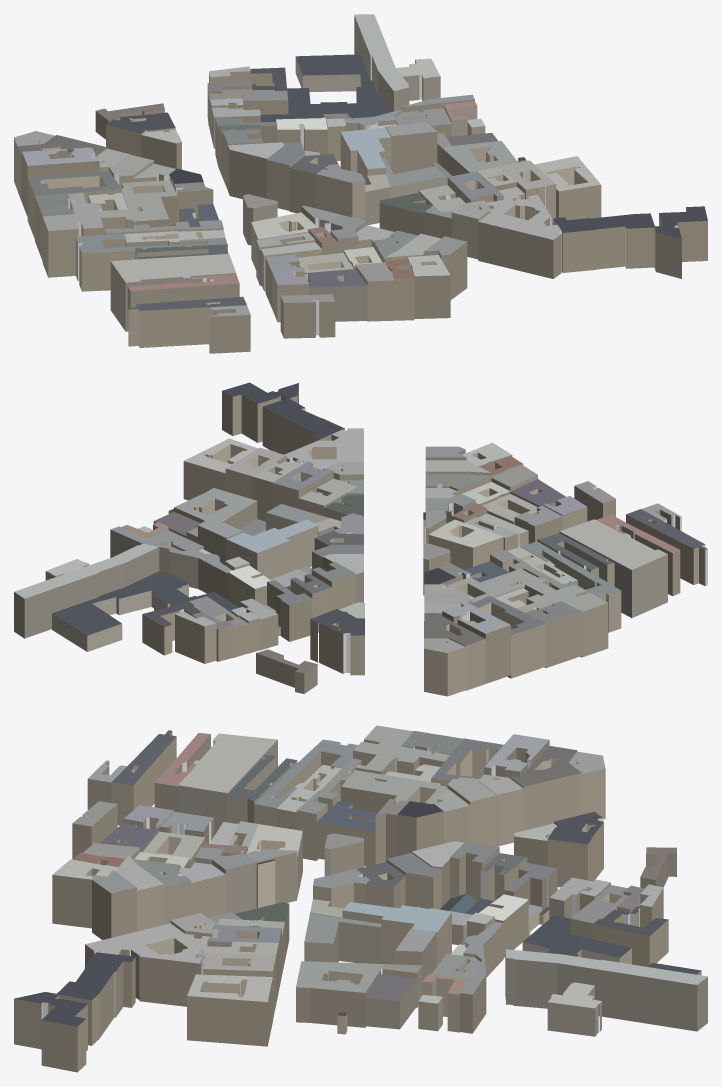
The picture shows the model from 3 angles, top to bottom: view 1: azimuth 30°, elevation 25°; view 2: azimuth 150°, elevation 25°; view 3: azimuth 270°, elevation 25°; orthographic projection. The views are drawn at different scales.
Visible parts, largest first — view 1: tuile; view 2: tuile; view 3: tuile.
Part boxes in pixels (x1,y1,x2,y2): tuile: (14, 14, 707, 353); tuile: (14, 382, 707, 696); tuile: (14, 725, 707, 1072).
Bounding box in the file's own units: 302 × 34.36 × 297.
